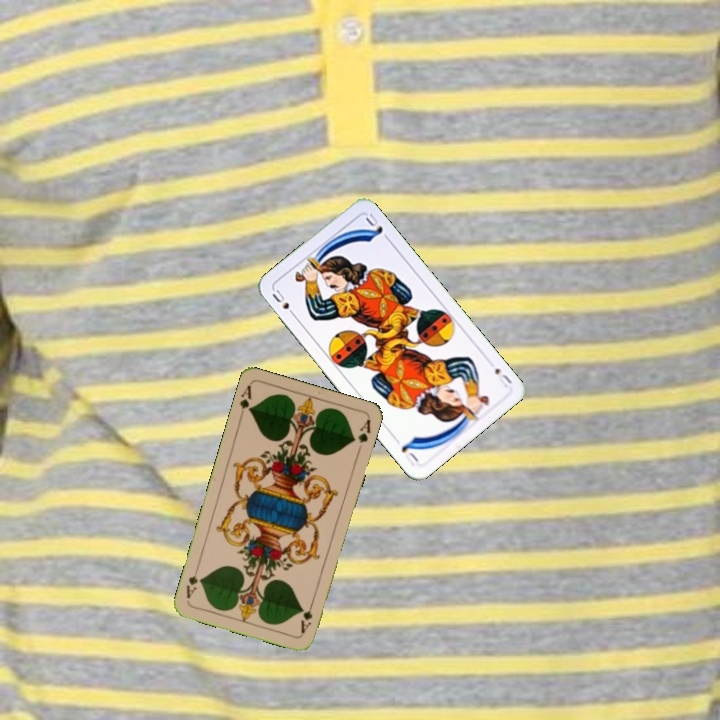GA: (235, 381, 255, 421), (297, 596, 316, 636)
SU: (268, 285, 299, 320), (490, 364, 515, 389)
